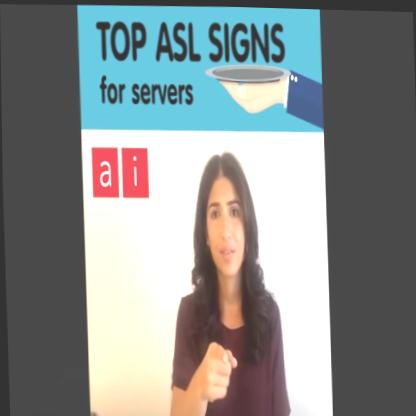HowAreYou: (189, 324, 261, 416)
